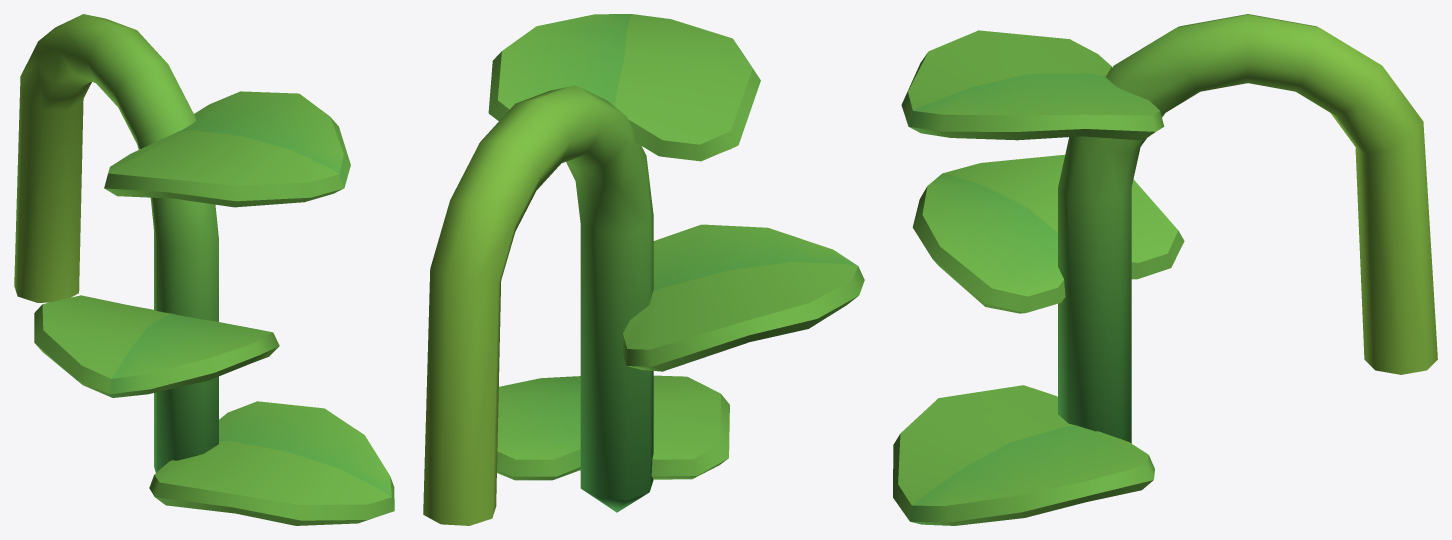
The model's file is Pothos Vine Small A.glb.
3 renders of one model, left to right at view 1: azimuth 30°, elevation 25°; view 2: azimuth 150°, elevation 25°; view 3: azimuth 270°, elevation 25°, orthographic. The views are drawn at different scales.
Visible parts, largest first — view 1: pothos_vine_small_A; view 2: pothos_vine_small_A; view 3: pothos_vine_small_A.
Part boxes in pixels (<box>): pothos_vine_small_A: <box>14,14,394,525</box>; pothos_vine_small_A: <box>423,14,864,525</box>; pothos_vine_small_A: <box>893,14,1437,525</box>.
Bounding box in the file's own units: 0.2928 × 0.3706 × 0.3992.
Materials: 1 (1 with a texture image).
